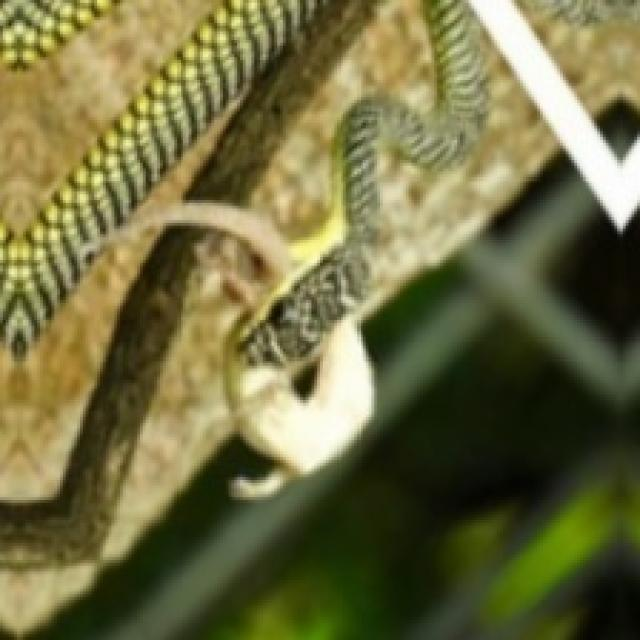paradise tree snake: (229, 0, 485, 473)
